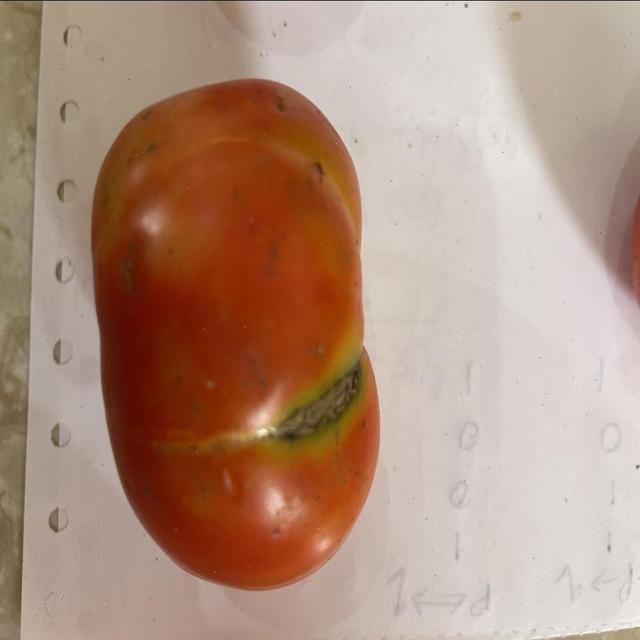Cracking Fruit: (67, 154, 269, 456)
